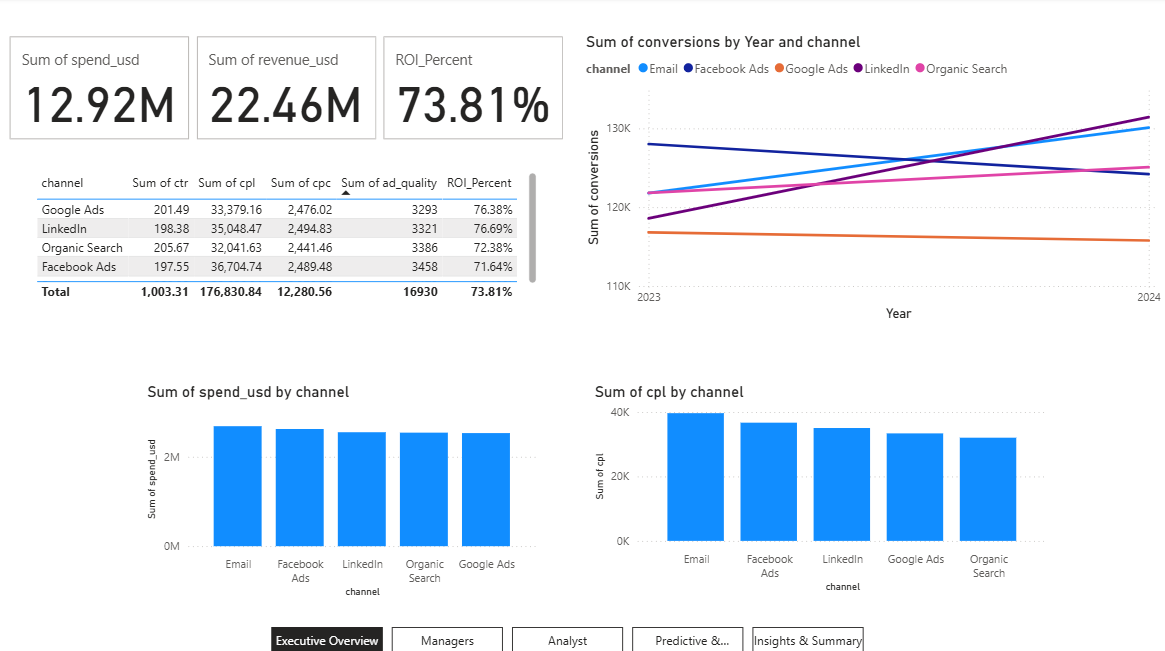

What the dashboard file says about the page in this screenshot:
{"tool":"powerbi","page":{"name":"Executive Overview","canvas":[1280,720],"ordinal":0},"visuals":[{"type":"cardVisual","fields":{"Data":["Sum(marketing_campaign_portfolio_python.spend_usd)","Sum(marketing_campaign_portfolio_python.revenue_usd)","marketing_campaign_portfolio_python.ROI_Percent"]},"box":[7.3,37.8,619.1,123.5],"z":0},{"type":"lineChart","fields":{"Category":["marketing_campaign_portfolio_python.date.Variation.Date Hierarchy.Year","marketing_campaign_portfolio_python.date.Variation.Date Hierarchy.Quarter","marketing_campaign_portfolio_python.date.Variation.Date Hierarchy.Month","marketing_campaign_portfolio_python.date.Variation.Date Hierarchy.Day"],"Y":["Sum(marketing_campaign_portfolio_python.conversions)"],"Series":["marketing_campaign_portfolio_python.channel"]},"box":[639.4,37.8,640.9,322.6],"z":1000},{"type":"tableEx","fields":{"Values":["marketing_campaign_portfolio_python.channel","Sum(marketing_campaign_portfolio_python.ctr)","Sum(marketing_campaign_portfolio_python.cpl)","Sum(marketing_campaign_portfolio_python.cpc)","Sum(marketing_campaign_portfolio_python.ad_quality)","marketing_campaign_portfolio_python.ROI_Percent"]},"box":[36.3,187.5,559.5,149.7],"z":2000},{"type":"clusteredColumnChart","fields":{"Category":["marketing_campaign_portfolio_python.channel"],"Y":["Sum(marketing_campaign_portfolio_python.spend_usd)"]},"box":[158.4,422.9,437.4,241.2],"z":3000},{"type":"clusteredColumnChart","fields":{"Category":["marketing_campaign_portfolio_python.channel"],"Y":["Sum(marketing_campaign_portfolio_python.cpl)"]},"box":[649.6,422.9,507.2,235.4],"z":4000},{"type":"pageNavigator","box":[299.1,691.6,653.2,28.8],"z":5000}]}

Visuals, with their boxes in screenshot pixels (x1, y1, x2, y2), scaled from the page's 1280x720 canvas onto the 1165x651 screenshot:
cardVisual - Sum(marketing_campaign_portfolio_python.spend_usd) x Sum(marketing_campaign_portfolio_python.revenue_usd): box(7, 34, 570, 146)
lineChart - marketing_campaign_portfolio_python.date.Variation.Date Hierarchy.Year x marketing_campaign_portfolio_python.date.Variation.Date Hierarchy.Quarter: box(582, 34, 1164, 326)
tableEx - marketing_campaign_portfolio_python.channel x Sum(marketing_campaign_portfolio_python.ctr): box(33, 170, 542, 305)
clusteredColumnChart - marketing_campaign_portfolio_python.channel x Sum(marketing_campaign_portfolio_python.spend_usd): box(144, 382, 542, 600)
clusteredColumnChart - marketing_campaign_portfolio_python.channel x Sum(marketing_campaign_portfolio_python.cpl): box(591, 382, 1053, 595)
pageNavigator: box(272, 625, 867, 650)
